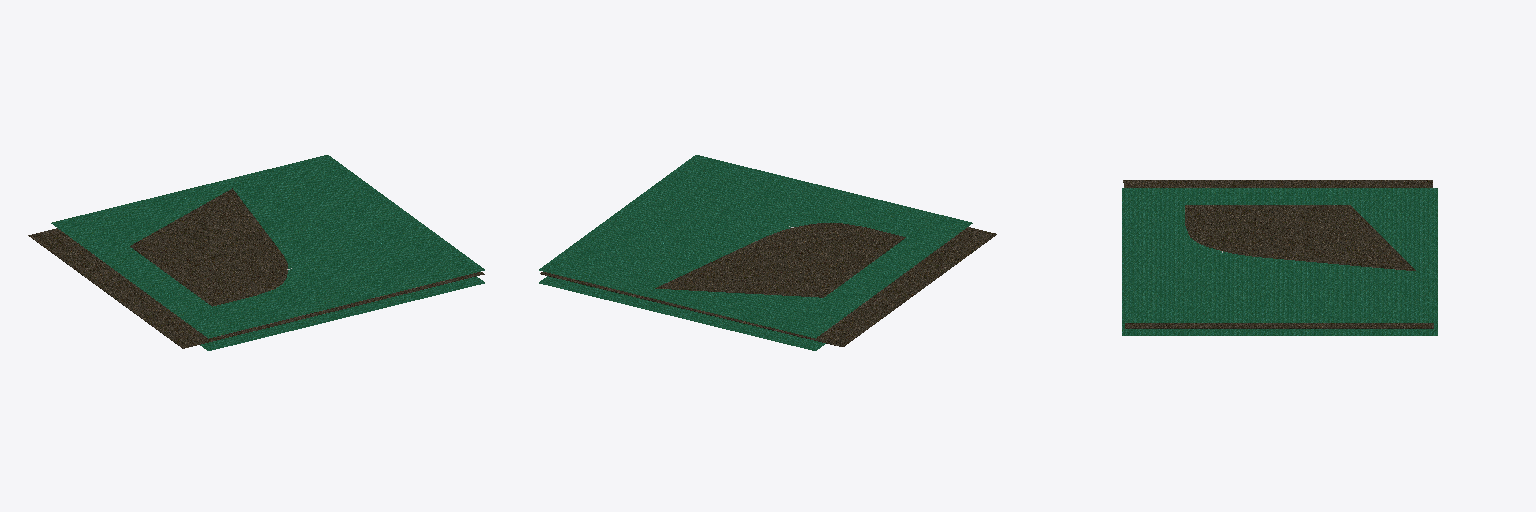
3 views of the same model, side by side, from view 1: azimuth 30°, elevation 25°; view 2: azimuth 150°, elevation 25°; view 3: azimuth 270°, elevation 25° (orthographic).
Visible parts, largest first — view 1: entity2_brush0, entity0_brush0, entity0_brush9; view 2: entity2_brush0, entity0_brush0, entity0_brush9; view 3: entity2_brush0, entity0_brush0, entity0_brush9.
Boxes of the visible parts, x1=… form: entity2_brush0: x1=51, y1=155, x2=484, y2=350; entity0_brush0: x1=130, y1=188, x2=287, y2=306; entity0_brush9: x1=28, y1=228, x2=484, y2=348; entity2_brush0: x1=539, y1=155, x2=972, y2=350; entity0_brush0: x1=655, y1=223, x2=905, y2=297; entity0_brush9: x1=540, y1=227, x2=996, y2=346; entity2_brush0: x1=1122, y1=188, x2=1437, y2=335; entity0_brush0: x1=1185, y1=205, x2=1415, y2=270; entity0_brush9: x1=1123, y1=180, x2=1433, y2=328.
Bounding box in the file's own units: 29600 × 1251 × 26752.
Materials: 4 (3 with a texture image).